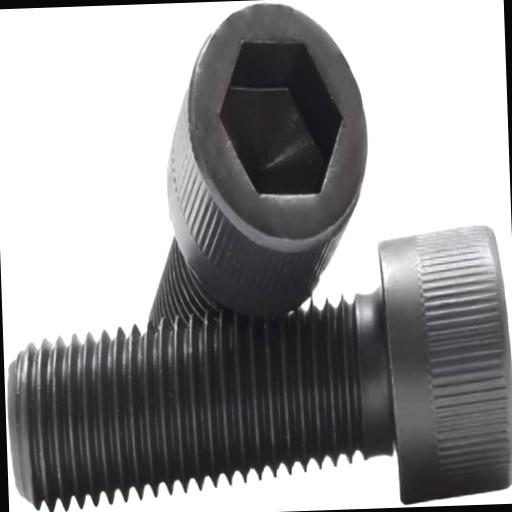Hex-Allen: (160, 0, 371, 305)
